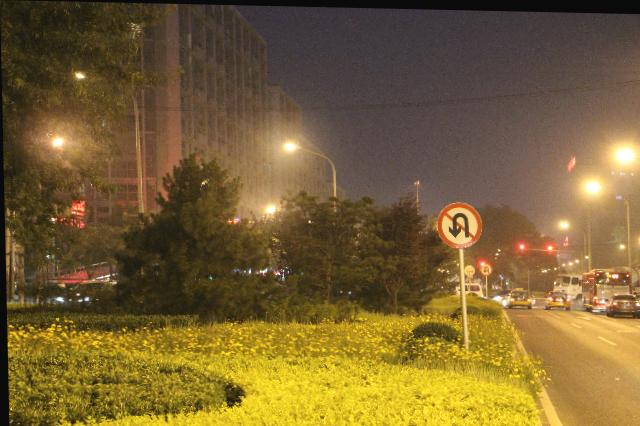not_u_turn_left: (432, 198, 485, 249)
